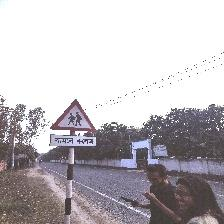College-in-front: (44, 87, 113, 156)
